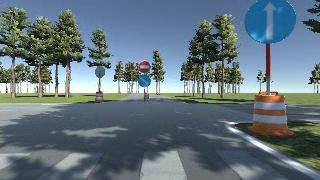go_ahead: (246, 1, 295, 44)
